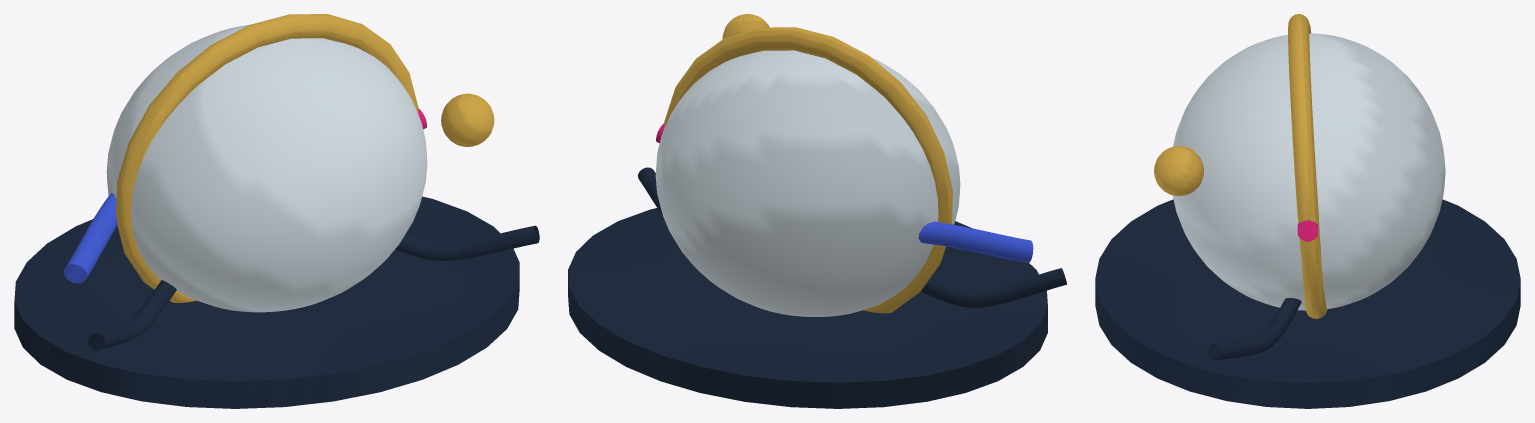
The model's file is 0436_微生物图鉴_抗体.glb.
The picture shows the model from 3 angles, left to right: view 1: azimuth 30°, elevation 25°; view 2: azimuth 150°, elevation 25°; view 3: azimuth 270°, elevation 25°; orthographic projection. The views are drawn at different scales.
Parts seen in each view (by area): view 1: card_0436; view 2: card_0436; view 3: card_0436.
Boxes of the visible parts, x1=… form: card_0436: x1=14, y1=14, x2=539, y2=408; card_0436: x1=568, y1=14, x2=1066, y2=408; card_0436: x1=1095, y1=14, x2=1520, y2=408.
Size of the model in its own units: 1.62 by 1 by 1.4.
